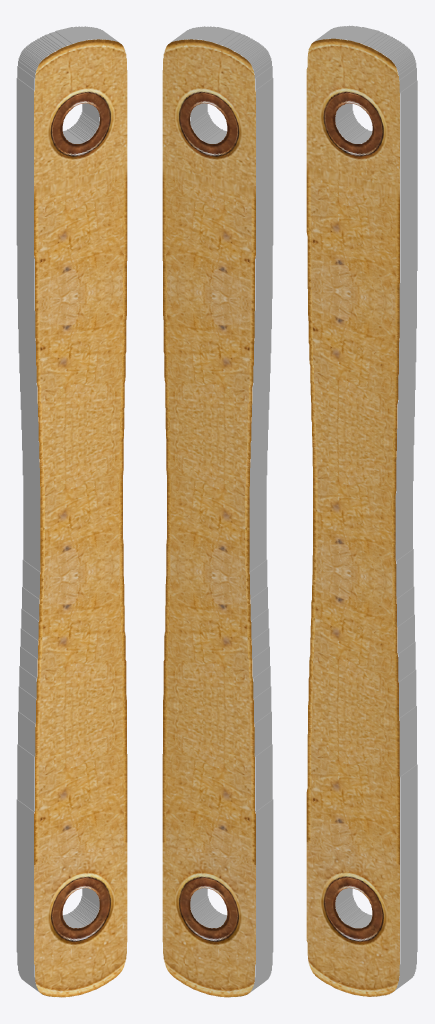
The model's file is UpperLeg.glb.
3 views of the same model, side by side, from view 1: azimuth 30°, elevation 25°; view 2: azimuth 150°, elevation 25°; view 3: azimuth 330°, elevation 25° (orthographic).
Parts seen in each view (by area): view 1: PaperVolume; view 2: PaperVolume; view 3: PaperVolume.
Boxes of the visible parts, x1,y1,x2,y2 form: PaperVolume: (16,26,127,997); PaperVolume: (162,26,273,997); PaperVolume: (306,25,417,996).
Bounding box in the file's own units: 0.2655 × 2.44 × 0.08.
Materials: 3 (2 with a texture image).
